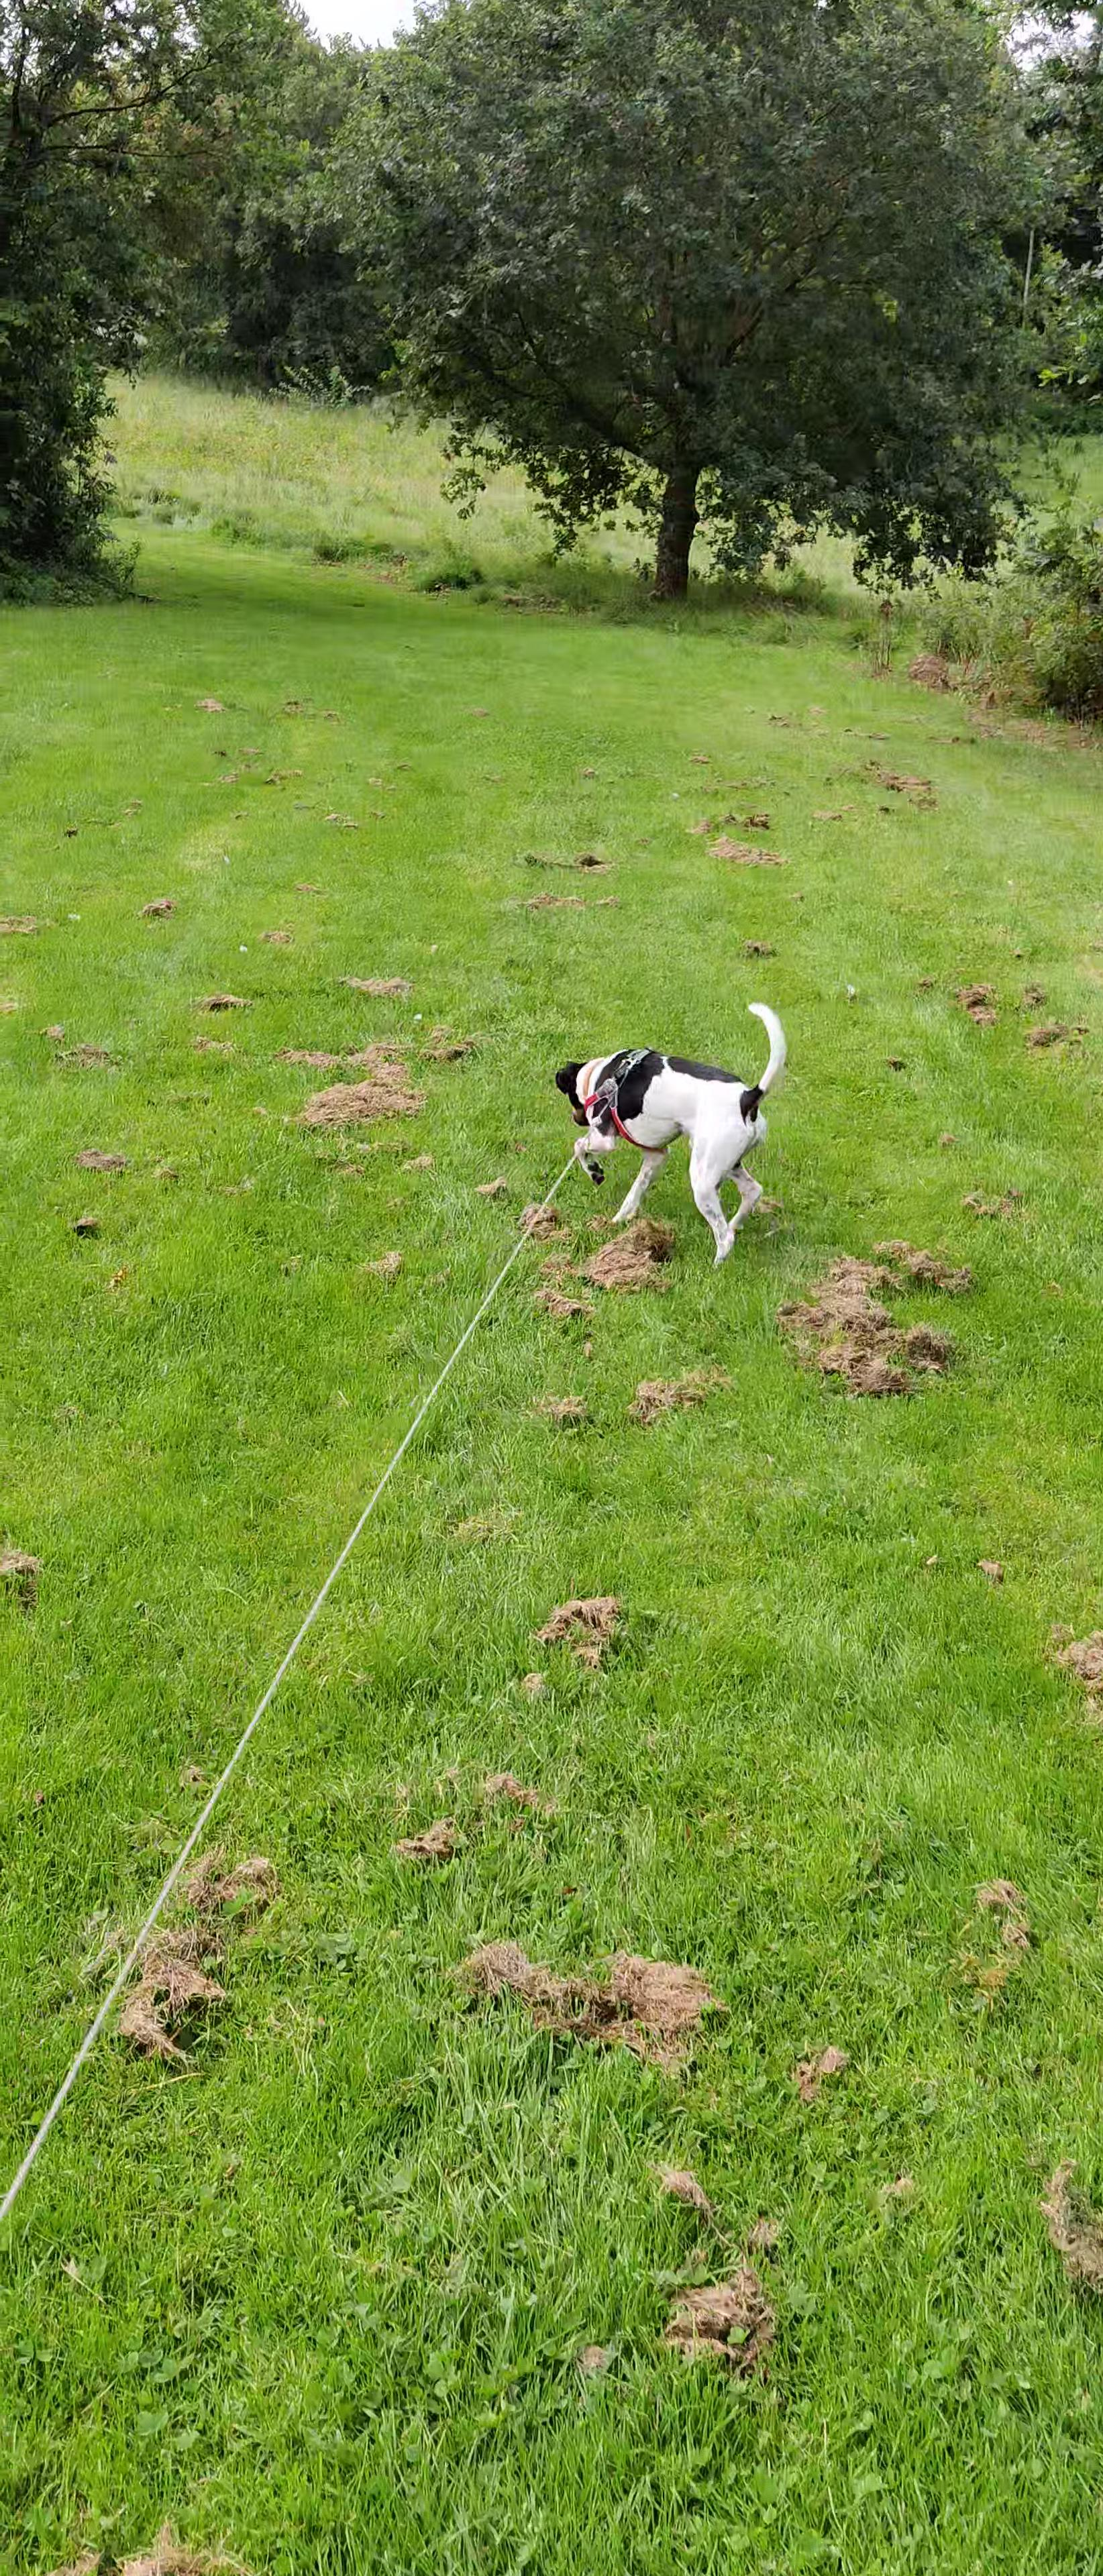Dog: (536, 977, 801, 1276)
